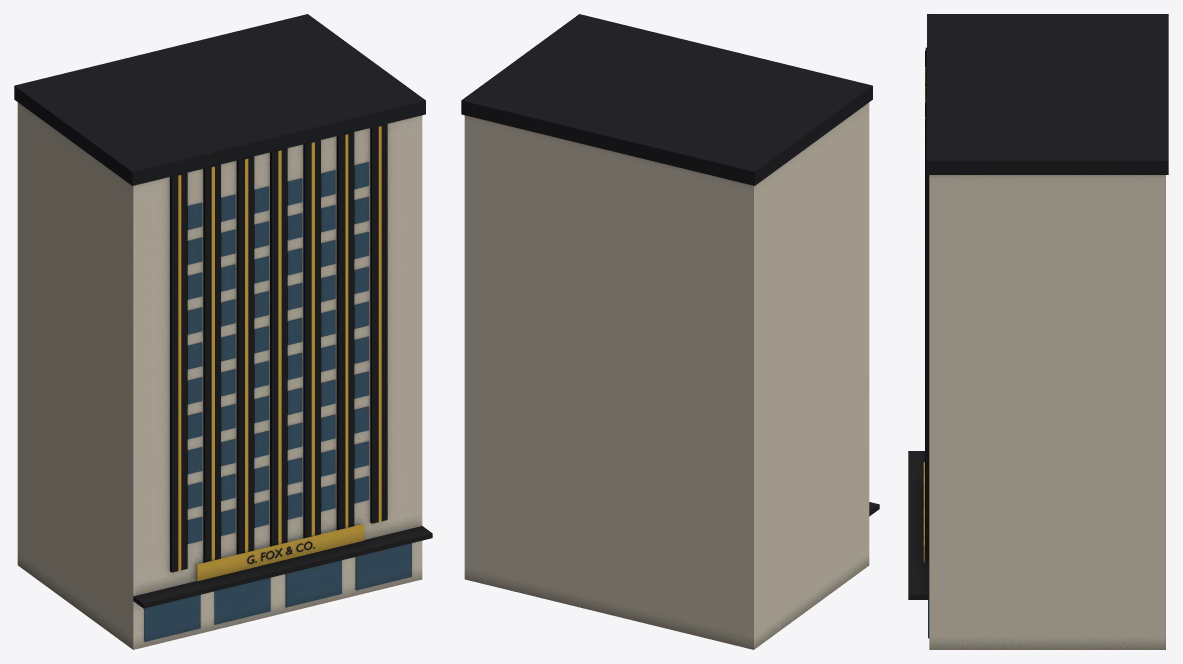
The model's file is g_fox.glb.
The picture shows the model from 3 angles, left to right: view 1: azimuth 30°, elevation 25°; view 2: azimuth 150°, elevation 25°; view 3: azimuth 270°, elevation 25°; orthographic projection. The views are drawn at different scales.
Visible parts, largest first — view 1: g_fox; view 2: g_fox; view 3: g_fox.
Part boxes in pixels (x1=…): g_fox: x1=14, y1=14, x2=432, y2=649; g_fox: x1=461, y1=14, x2=879, y2=649; g_fox: x1=908, y1=14, x2=1168, y2=649.
Size of the model in its own units: 26.4 by 41.2 by 19.8.
Materials: 1 (1 with a texture image).
